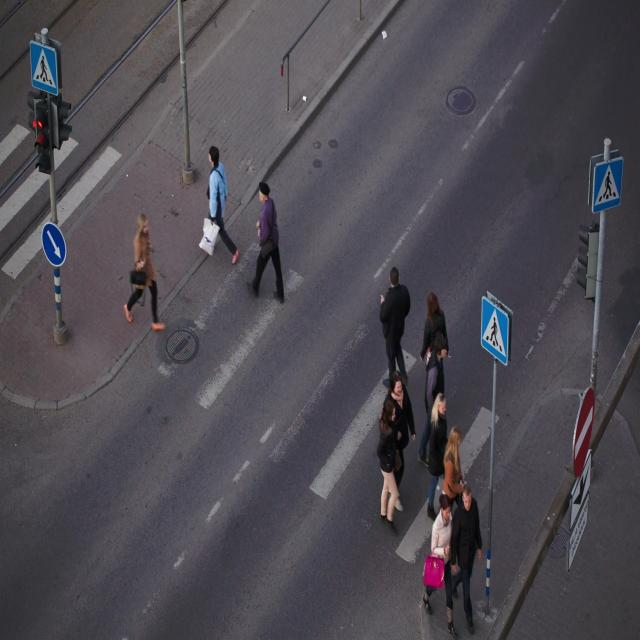pedestrian: (377, 267, 415, 532), (423, 485, 481, 636), (124, 214, 164, 329), (203, 146, 239, 263), (249, 182, 283, 302), (430, 422, 448, 461)
